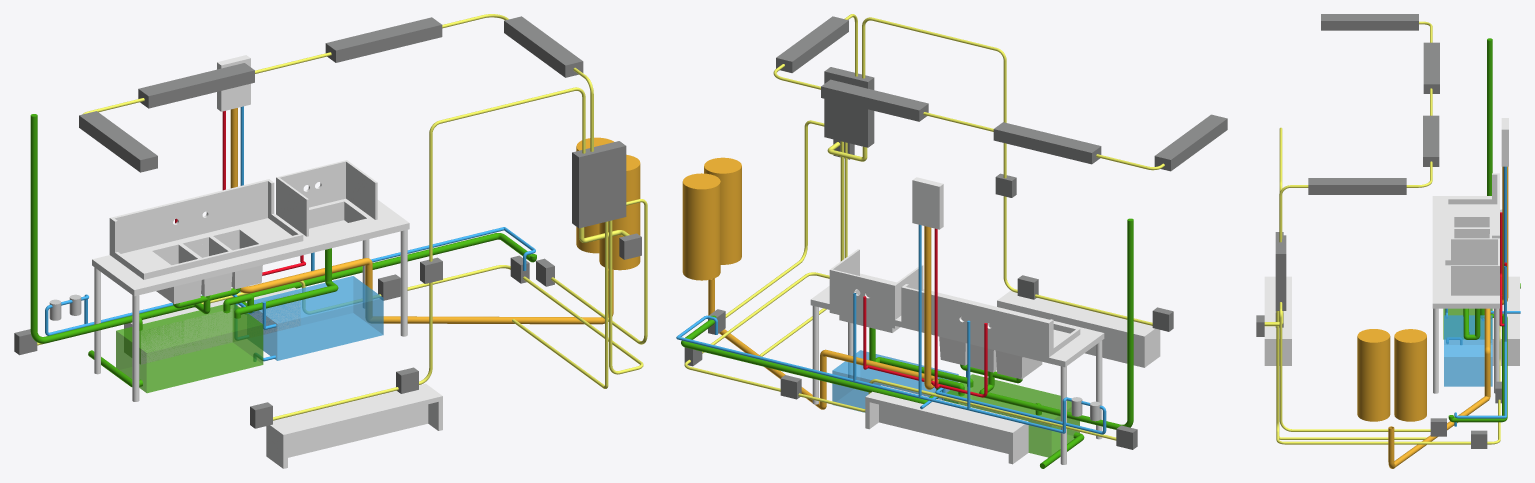
The model's file is River_Rays_LLC.gltf.
3 renders of one model, left to right at view 1: azimuth 30°, elevation 25°; view 2: azimuth 150°, elevation 25°; view 3: azimuth 270°, elevation 25°, orthographic. The views are drawn at different scales.
Visible parts, largest first — view 1: 9_26_24 ~ Trailer 3D; view 2: 9_26_24 ~ Trailer 3D; view 3: 9_26_24 ~ Trailer 3D.
Boxes of the visible parts, bbox=[...] form: 9_26_24 ~ Trailer 3D: bbox=[14, 14, 647, 468]; 9_26_24 ~ Trailer 3D: bbox=[676, 14, 1227, 468]; 9_26_24 ~ Trailer 3D: bbox=[1256, 14, 1520, 468].
Bounding box in the file's own units: 184 × 104 × 96.75.
